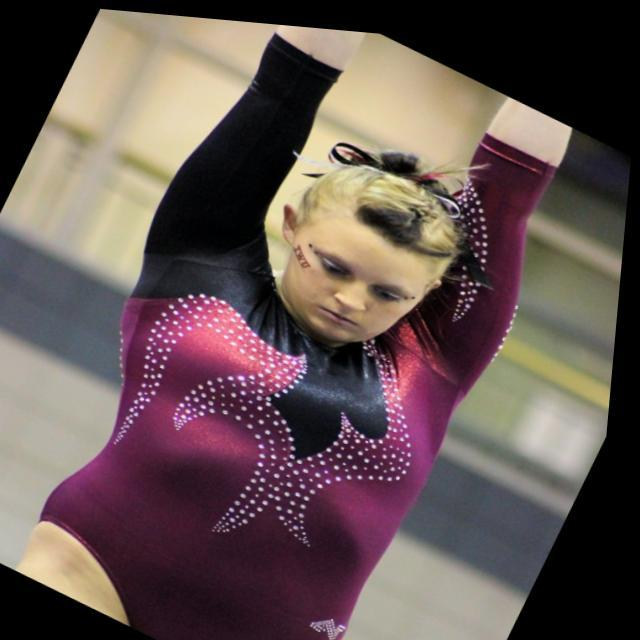Nonhelmet: (273, 138, 494, 380)
